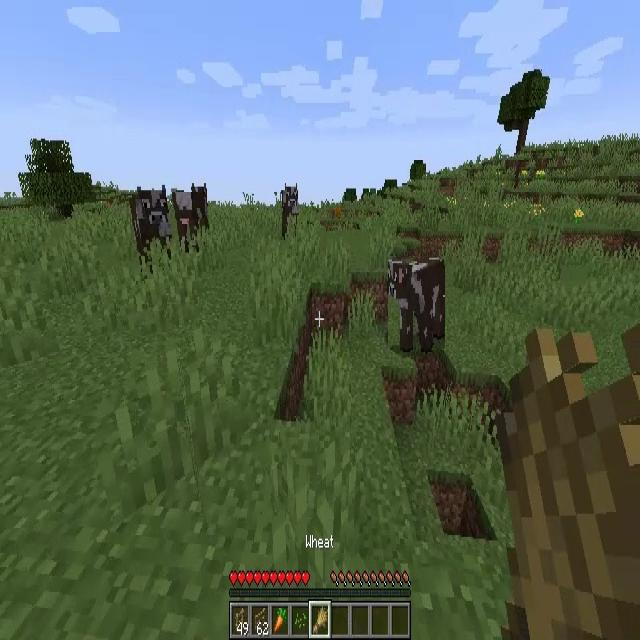cow: (388, 257, 445, 350), (134, 184, 170, 266), (171, 182, 210, 253), (278, 185, 298, 236)
